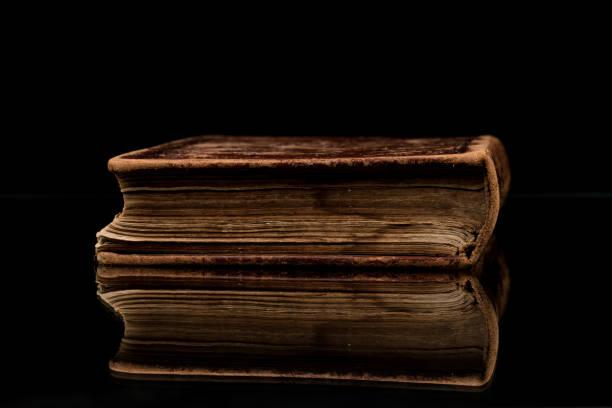paper: (82, 124, 520, 266), (89, 251, 521, 389)
